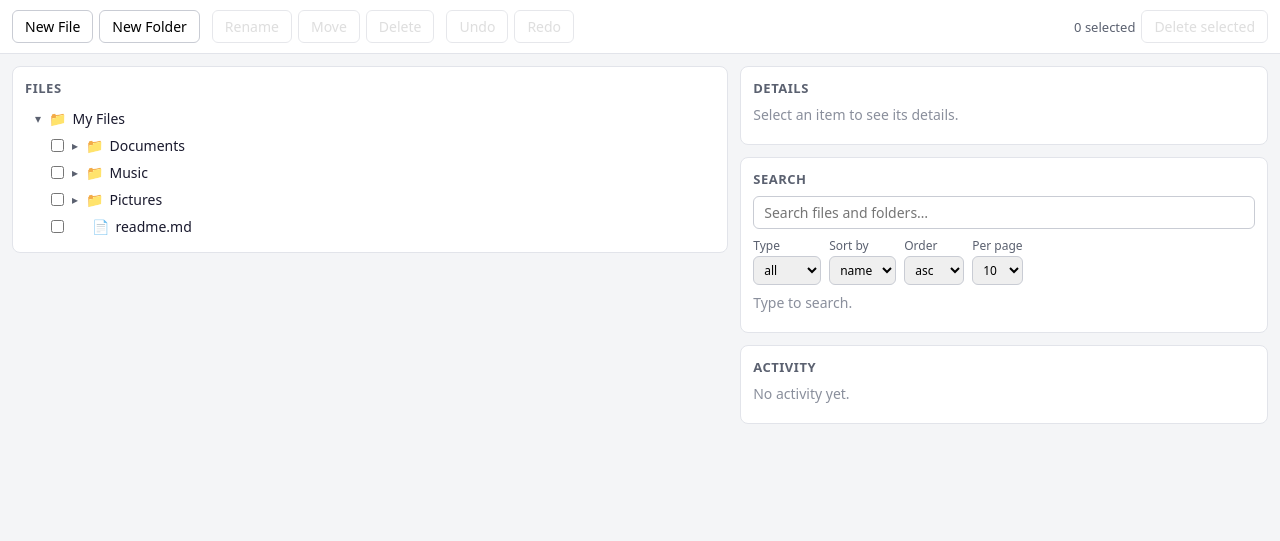
Test: rendering › selects a file and shows it in the details panel
This screenshot has width=1280, height=541.
Click the button named "Expand Documents".
click(75, 146)  # box [70, 137, 80, 154]
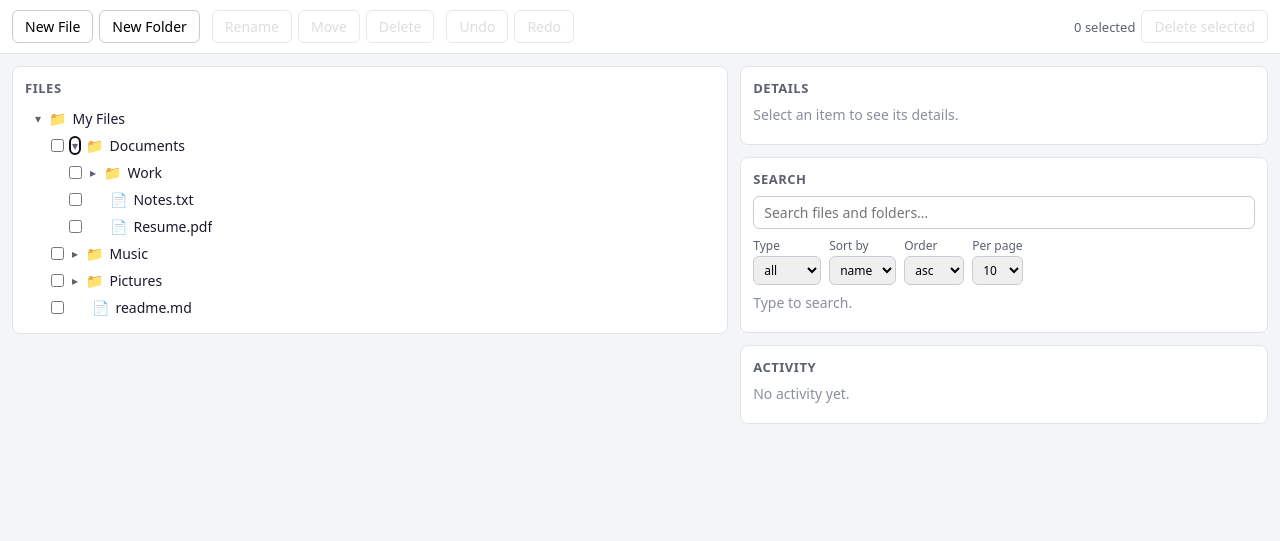
Click the text "Resume.pdf".
click(173, 226)  # box [134, 217, 212, 236]
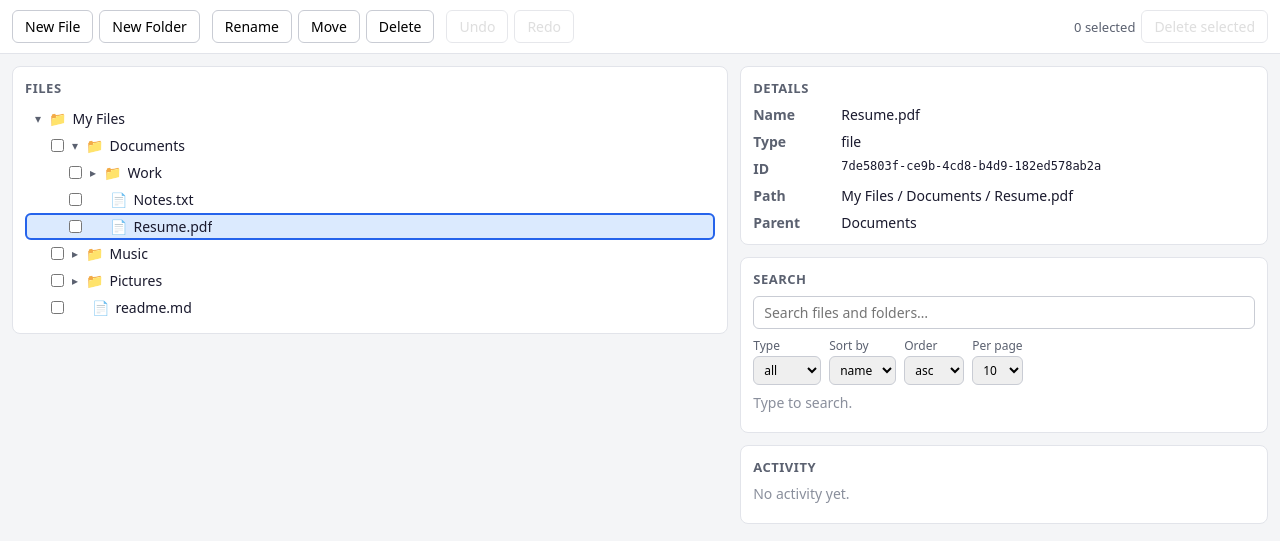
Expected: the text with test id "details-name" reads "Resume.pdf", [841, 105, 920, 124]
Expected: the text with test id "details-type" reads "file", [841, 132, 861, 151]
Expected: the text with test id "details-path" reads "My Files / Documents / Resume.pdf", [841, 186, 1073, 205]
